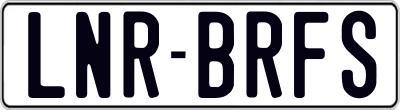B: (197, 12, 237, 100)
F: (293, 11, 329, 103)
L: (25, 10, 68, 99)
N: (76, 11, 115, 101)
R: (123, 10, 163, 99), (243, 11, 282, 102)
S: (342, 8, 382, 101)
